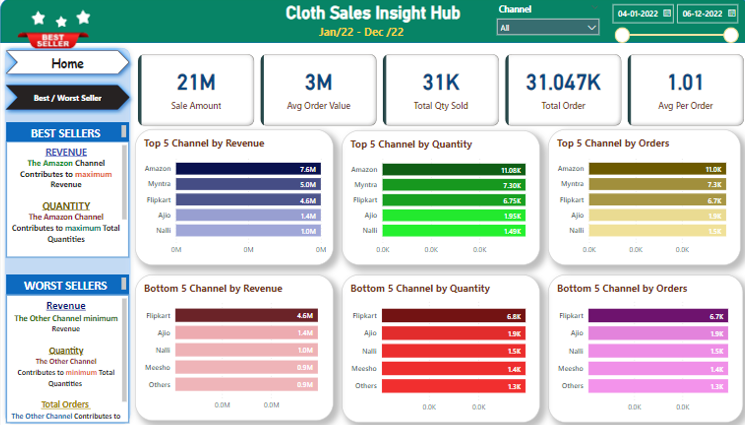

Layout of this report page (visuals, bound fields, positions):
{"tool":"powerbi","page":{"name":"Best / Worst Seller","canvas":[1280,720],"ordinal":1},"visuals":[{"type":"cardVisual","fields":{"Data":["Sum(Vrinda Store.Sale Amount)","Vrinda Store.Sale Amount average per Category 2","Sum(Vrinda Store.Qty)","CountNonNull(Vrinda Store.Cust ID)","Avg(Vrinda Store.Qty)"]},"box":[230.1,95.7,1049.9,129.3],"z":0},{"type":"shape","box":[0,82.1,230.4,637.9],"z":1000},{"type":"shape","box":[0,8.4,1280,73.9],"z":2000},{"type":"textbox","box":[476.6,10.1,319.7,50.4],"z":3000},{"type":"textbox","box":[539.2,45.4,169.7,50.4],"z":4000},{"type":"slicer","fields":{"Values":["Vrinda Store.Channel "]},"box":[838.2,10.1,194.9,99.1],"z":5000},{"type":"slicer","fields":{"Values":["Vrinda Store.Date"]},"box":[1033.1,8.4,235.2,77.3],"z":6000},{"type":"pageNavigator","box":[0,142.6,230.4,59],"z":7000},{"type":"pageNavigator","box":[0,85,230.4,57.6],"z":8000},{"type":"textbox","box":[10.1,213.1,210.2,33.1],"z":9000},{"type":"textbox","box":[10.1,244.8,210.2,191.5],"z":10000},{"type":"textbox","box":[10.1,465.1,210.2,33.1],"z":11000},{"type":"textbox","box":[10.1,498.2,210.2,211.7],"z":12000},{"type":"barChart","title":"Bottom 5 Channel by Orders","fields":{"Category":["Vrinda Store.Channel "],"Y":["CountNonNull(Vrinda Store.Order ID)"]},"box":[935.6,465.3,332.6,245.2],"z":13000},{"type":"image","box":[10.1,47,162.9,68.9],"z":14000},{"type":"image","box":[102.5,21.8,79,35.3],"z":15000},{"type":"image","box":[65.5,31.9,77.3,30.2],"z":16000},{"type":"image","box":[25.2,23.5,79,33.6],"z":17000},{"type":"barChart","title":"Bottom 5 Channel by Quantity","fields":{"Category":["Vrinda Store.Channel "],"Y":["Sum(Vrinda Store.Qty)"]},"box":[582.9,465.3,339.3,245.2],"z":18000},{"type":"barChart","title":"Bottom 5 Channel by Revenue","fields":{"Category":["Vrinda Store.Channel "],"Y":["Sum(Vrinda Store.Sale Amount)"]},"box":[230.1,465.3,339.3,241.9],"z":19000},{"type":"barChart","title":"Top 5 Channel by Quantity","fields":{"Category":["Vrinda Store.Channel "],"Y":["Sum(Vrinda Store.Qty)"]},"box":[582.9,226.8,339.3,223.4],"z":20000},{"type":"barChart","title":"Top 5 Channel by Revenue","fields":{"Category":["Vrinda Store.Channel "],"Y":["Sum(Vrinda Store.Sale Amount)"]},"box":[230.1,225.1,339.3,225.1],"z":21000},{"type":"barChart","title":"Top 5 Channel by Orders","fields":{"Category":["Vrinda Store.Channel "],"Y":["CountNonNull(Vrinda Store.Order ID)"]},"box":[935.6,225.1,329.2,225.1],"z":22000}]}

Visuals, with their boxes in screenshot pixels (x1, y1, x2, y2), scaled from the page's 1280x720 canvas onto the 745x425 screenshot:
cardVisual - Sum(Vrinda Store.Sale Amount) x Vrinda Store.Sale Amount average per Category 2: {"left": 134, "top": 56, "right": 744, "bottom": 133}
shape: {"left": 0, "top": 48, "right": 134, "bottom": 424}
shape: {"left": 0, "top": 5, "right": 744, "bottom": 49}
textbox: {"left": 277, "top": 6, "right": 463, "bottom": 36}
textbox: {"left": 314, "top": 27, "right": 413, "bottom": 57}
slicer - Vrinda Store.Channel : {"left": 488, "top": 6, "right": 601, "bottom": 64}
slicer - Vrinda Store.Date: {"left": 601, "top": 5, "right": 738, "bottom": 51}
pageNavigator: {"left": 0, "top": 84, "right": 134, "bottom": 119}
pageNavigator: {"left": 0, "top": 50, "right": 134, "bottom": 84}
textbox: {"left": 6, "top": 126, "right": 128, "bottom": 145}
textbox: {"left": 6, "top": 144, "right": 128, "bottom": 258}
textbox: {"left": 6, "top": 275, "right": 128, "bottom": 294}
textbox: {"left": 6, "top": 294, "right": 128, "bottom": 419}
"Bottom 5 Channel by Orders" barChart: {"left": 545, "top": 275, "right": 738, "bottom": 419}
image: {"left": 6, "top": 28, "right": 101, "bottom": 68}
image: {"left": 60, "top": 13, "right": 106, "bottom": 34}
image: {"left": 38, "top": 19, "right": 83, "bottom": 37}
image: {"left": 15, "top": 14, "right": 61, "bottom": 34}
"Bottom 5 Channel by Quantity" barChart: {"left": 339, "top": 275, "right": 537, "bottom": 419}
"Bottom 5 Channel by Revenue" barChart: {"left": 134, "top": 275, "right": 331, "bottom": 417}
"Top 5 Channel by Quantity" barChart: {"left": 339, "top": 134, "right": 537, "bottom": 266}
"Top 5 Channel by Revenue" barChart: {"left": 134, "top": 133, "right": 331, "bottom": 266}
"Top 5 Channel by Orders" barChart: {"left": 545, "top": 133, "right": 736, "bottom": 266}
